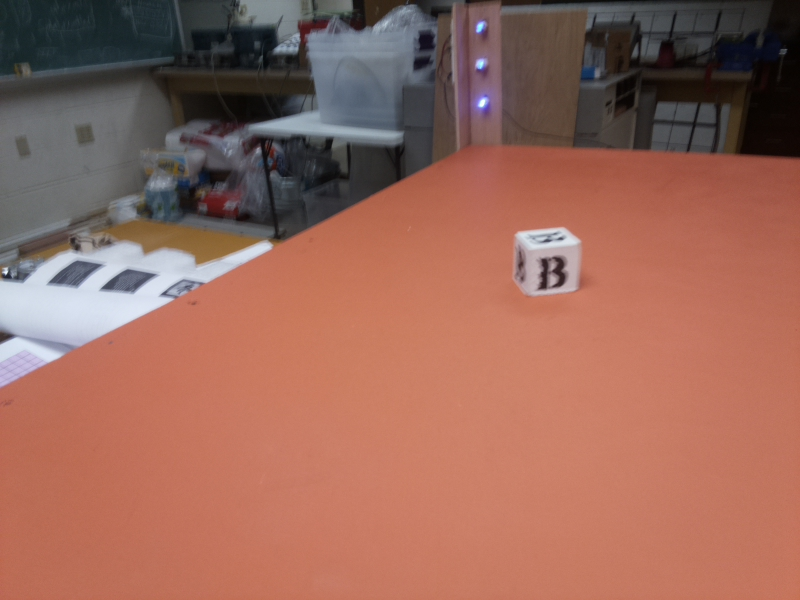blockB: (513, 226, 584, 303)
corner: (448, 1, 508, 153)
